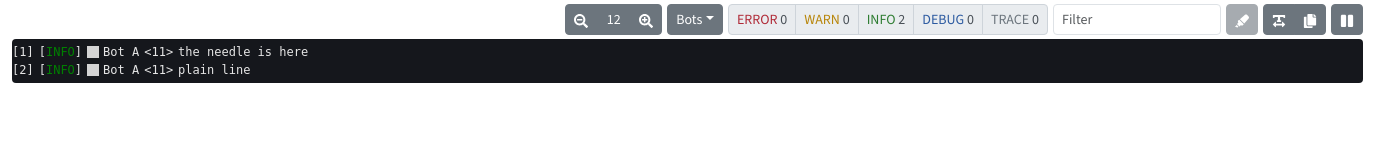
Test case: Logs (per-bot filtering) › highlight mode marks matches in place instead of filtering
Type "needle" into the search field with placeholder "Filter" at (1137, 20), box 1053,4 -> 1221,35
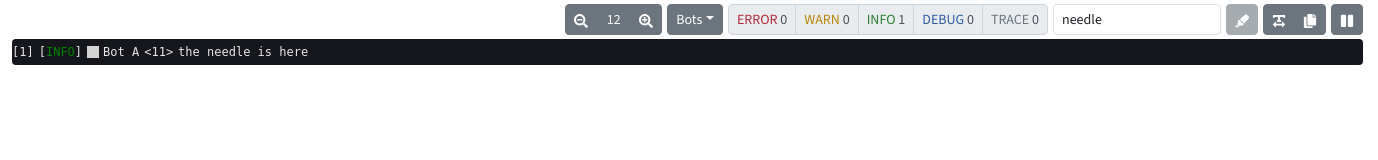
Expected: the text "plain line" is gone
Click the button named "Highlight matches instead of filtering" at (1242, 20), box 1226,4 -> 1258,35
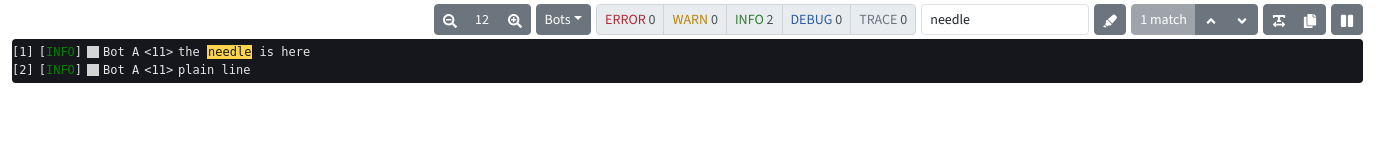
Expected: the text "needle" is shown, 207,45 -> 252,59
Expected: the text "plain line" is shown, 178,63 -> 250,77
Expected: the button "1 match" is shown, 1131,4 -> 1196,35
